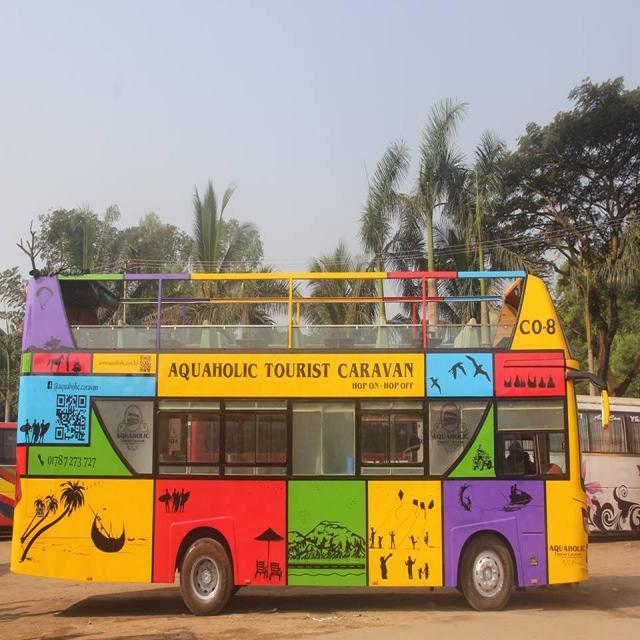bus: (13, 271, 610, 619)
